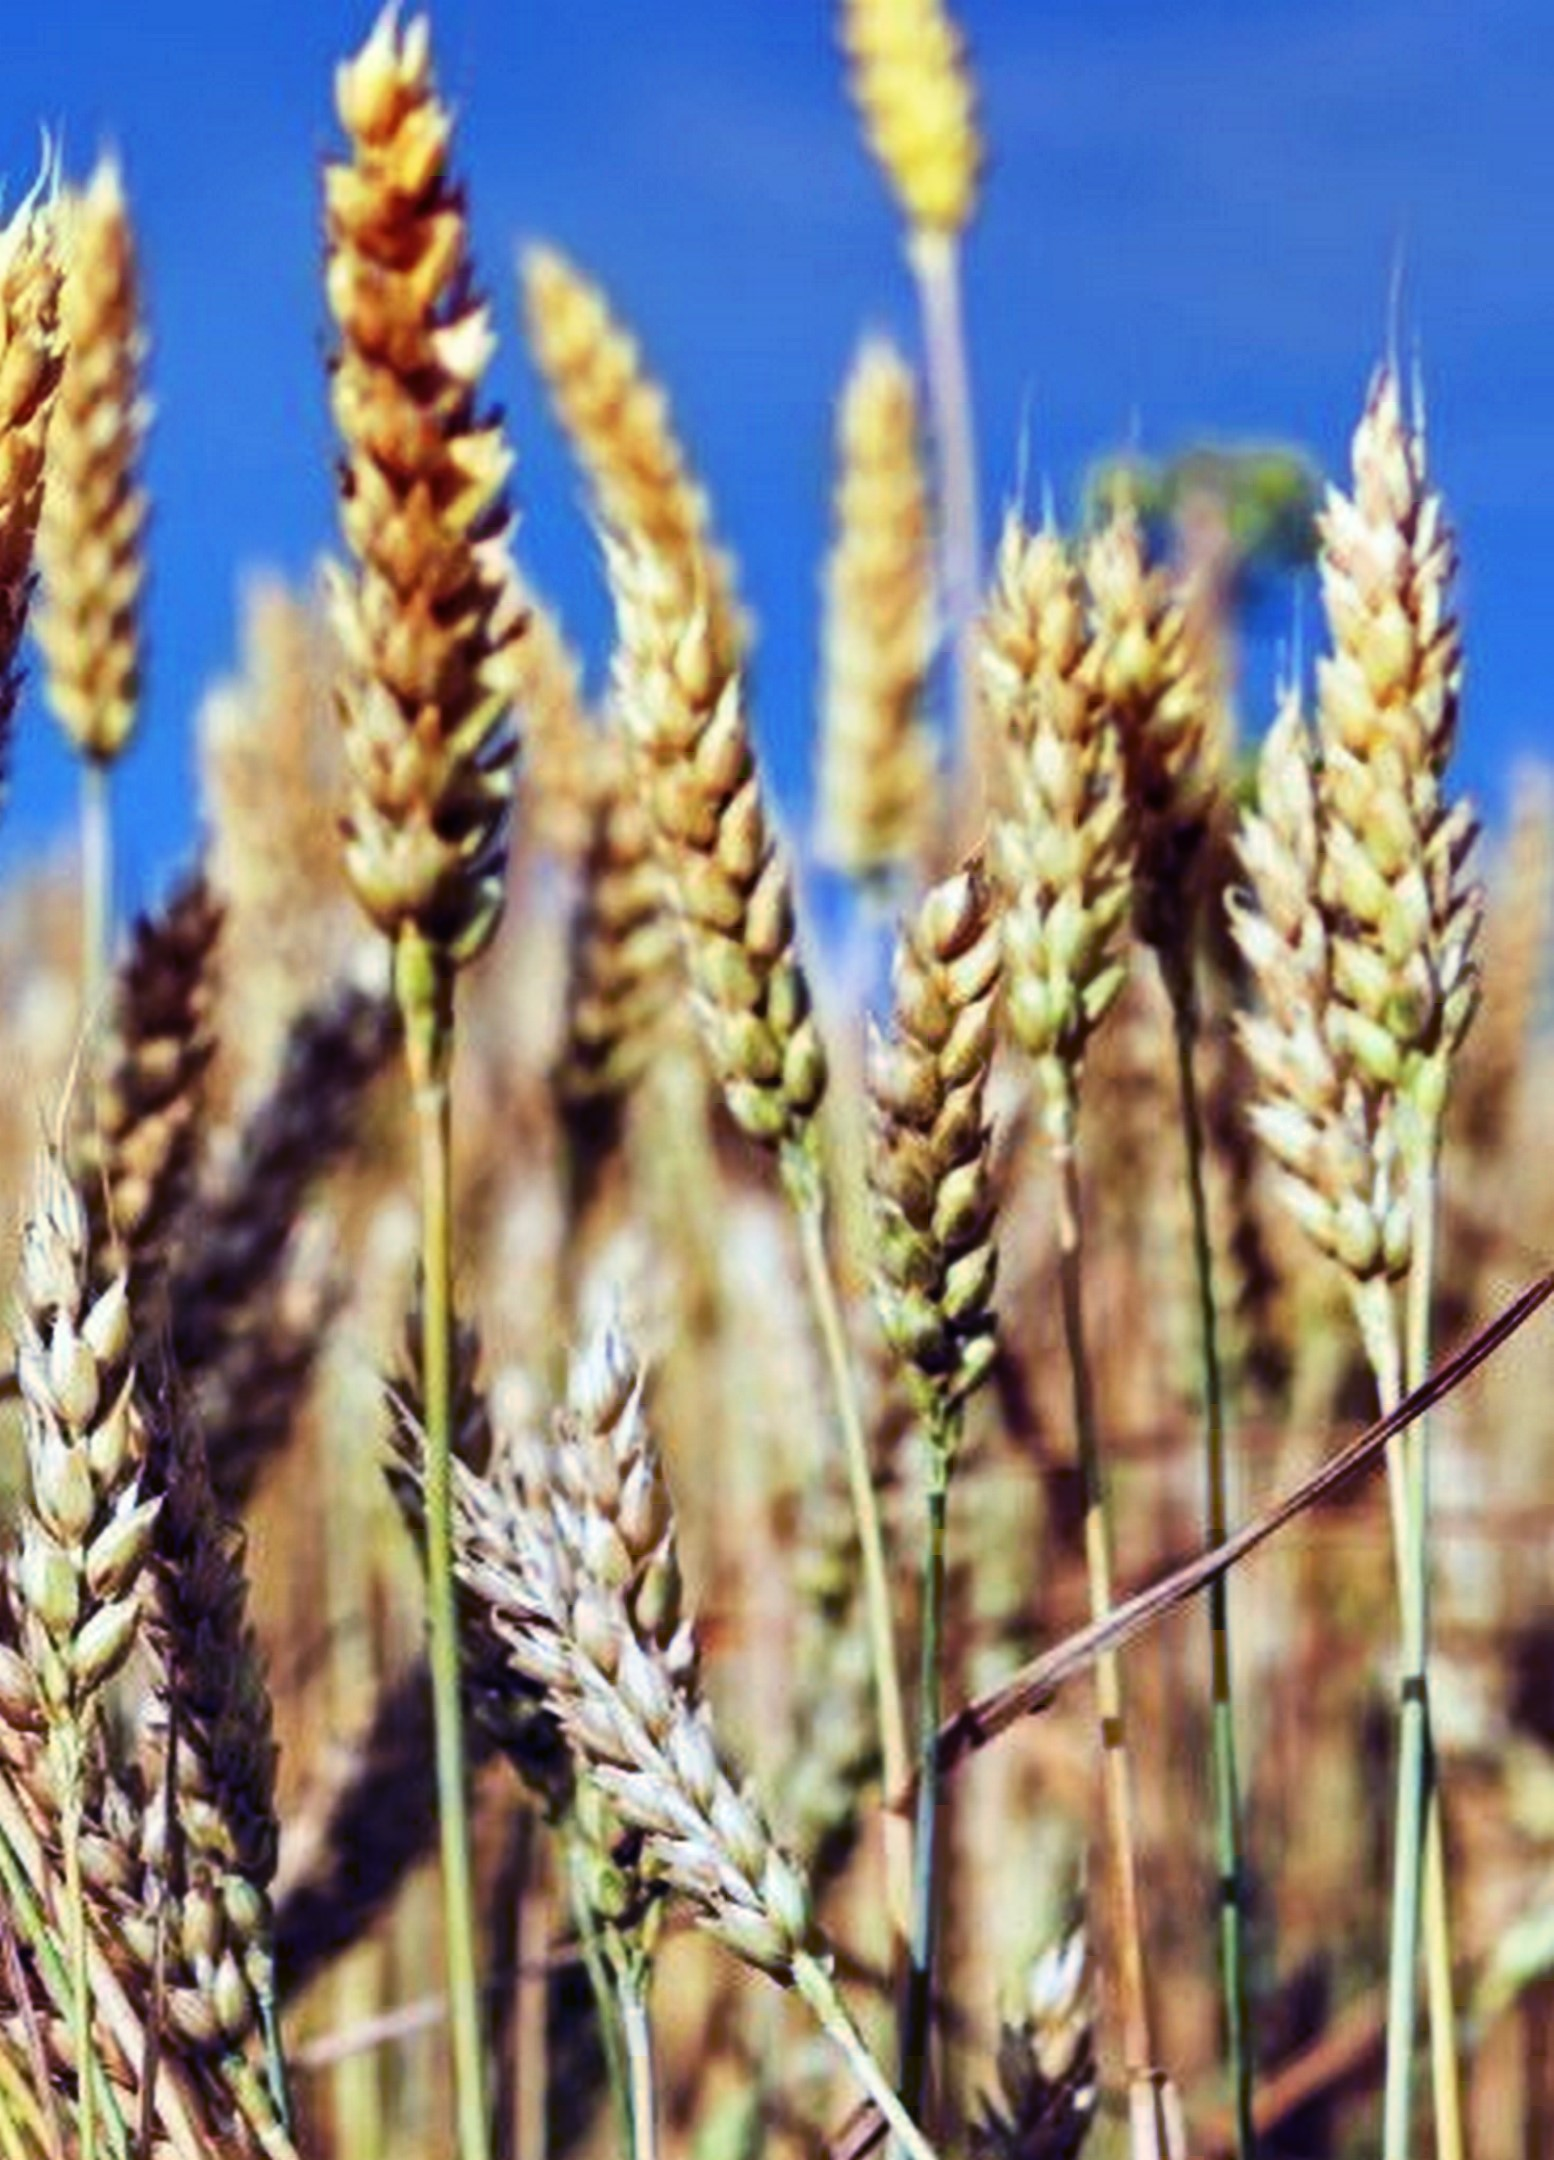Healthy Wheat: (426, 1436, 862, 1977), (843, 854, 1066, 1417)
